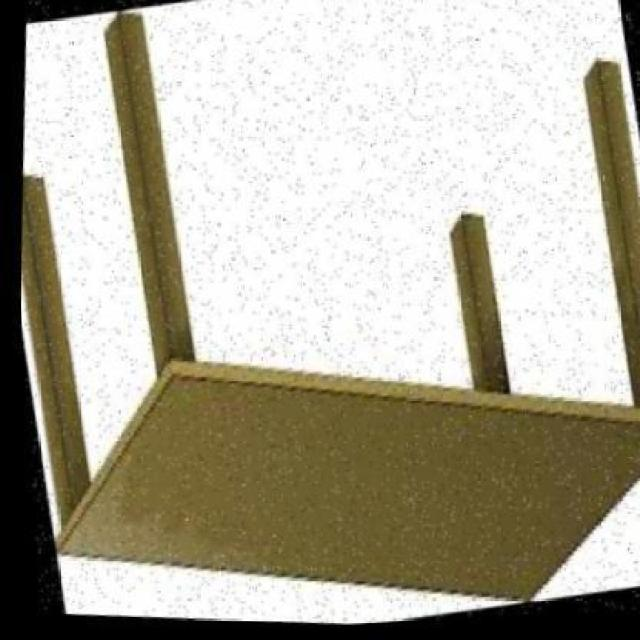tables: (17, 0, 638, 629)
